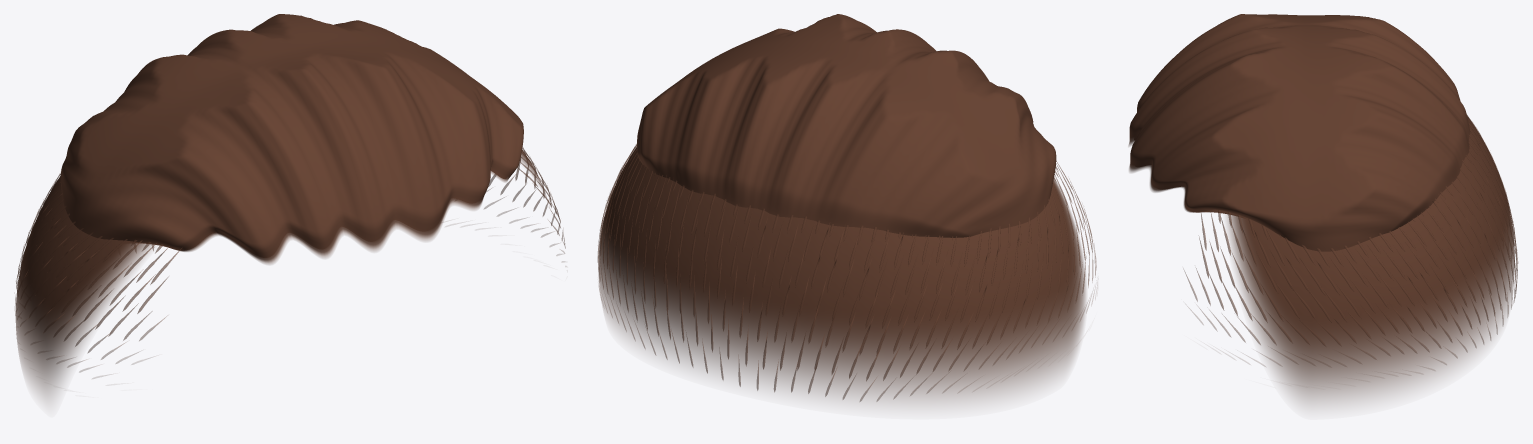
The model's file is Masculine-sidepart-pashmina259-hair.glb.
3 renders of one model, left to right at view 1: azimuth 30°, elevation 25°; view 2: azimuth 150°, elevation 25°; view 3: azimuth 270°, elevation 25°, orthographic. The views are drawn at different scales.
Visible parts, largest first — view 1: 226 hair / Hair259 / textured forward Crop, 226 hair / Hair258 / smooth side fade, 226 hair / Hair259 / directional fade marks214; view 2: 226 hair / Hair258 / smooth side fade, 226 hair / Hair259 / textured forward Crop, 226 hair / Hair259 / directional fade marks214; view 3: 226 hair / Hair259 / textured forward Crop, 226 hair / Hair258 / smooth side fade, 226 hair / Hair259 / directional fade marks214.
Part boxes in pixels (bbox=[...]): 226 hair / Hair259 / textured forward Crop: bbox=[60, 14, 523, 264]; 226 hair / Hair258 / smooth side fade: bbox=[15, 150, 546, 399]; 226 hair / Hair259 / directional fade marks214: bbox=[15, 147, 566, 378]; 226 hair / Hair258 / smooth side fade: bbox=[598, 147, 1085, 403]; 226 hair / Hair259 / textured forward Crop: bbox=[637, 14, 1056, 237]; 226 hair / Hair259 / directional fade marks214: bbox=[597, 144, 1097, 401]; 226 hair / Hair259 / textured forward Crop: bbox=[1128, 14, 1470, 251]; 226 hair / Hair258 / smooth side fade: bbox=[1226, 117, 1514, 404]; 226 hair / Hair259 / directional fade marks214: bbox=[1184, 115, 1518, 373].
Size of the model in its own units: 0.9743 by 0.6215 by 0.7545.
